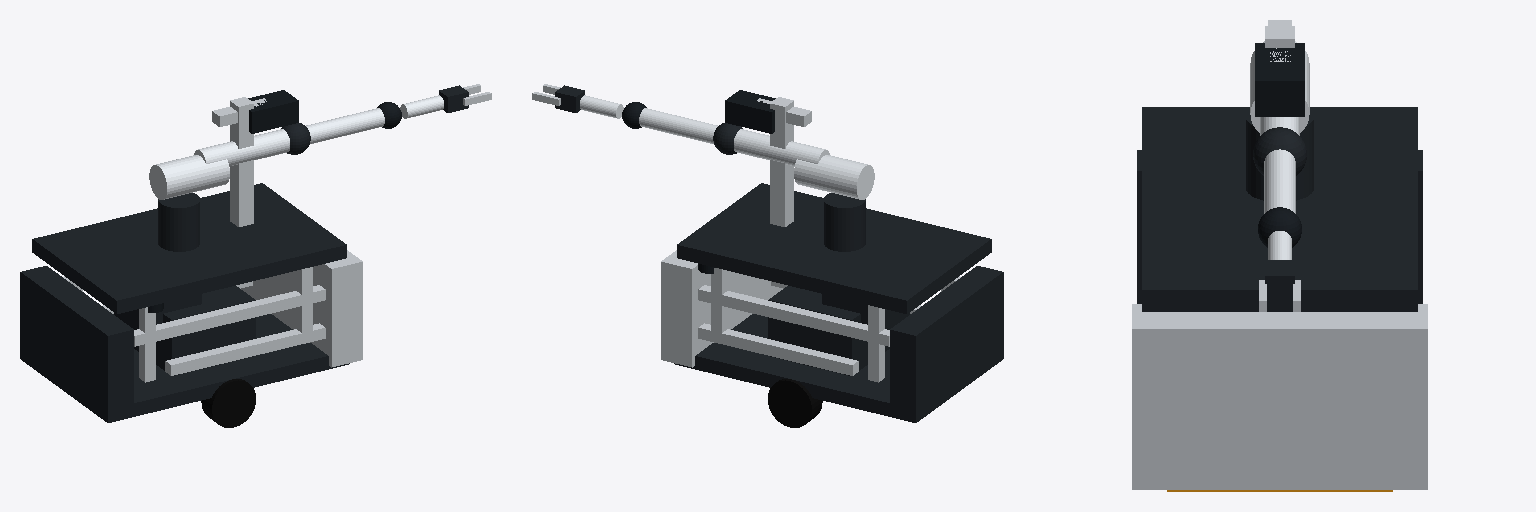
robot.urdf — mobile_manipulator_amr:
<?xml version="1.0"?>
<robot name="mobile_manipulator_amr">
  <material name="aluminum_mat">
    <color rgba="0.83 0.85 0.87 1.0"/>
  </material>
  <material name="dark_panel_mat">
    <color rgba="0.16 0.18 0.20 1.0"/>
  </material>
  <material name="sensor_dark">
    <color rgba="0.12 0.14 0.16 1.0"/>
  </material>
  <material name="wheel_dark">
    <color rgba="0.08 0.08 0.08 1.0"/>
  </material>
  <material name="arm_white">
    <color rgba="0.91 0.93 0.95 1.0"/>
  </material>
  <material name="safety_orange">
    <color rgba="0.96 0.64 0.12 1.0"/>
  </material>

  <link name="base_link">
    <visual>
      <origin xyz="0 0 0.06" rpy="0 0 0"/>
      <geometry>
        <box size="0.90 0.56 0.05"/>
      </geometry>
      <material name="dark_panel_mat"/>
    </visual>
    <visual>
      <origin xyz="0 0 0.45" rpy="0 0 0"/>
      <geometry>
        <box size="0.88 0.56 0.05"/>
      </geometry>
      <material name="dark_panel_mat"/>
    </visual>
    <visual>
      <origin xyz="0.43 0 0.23" rpy="0 0 0"/>
      <geometry>
        <box size="0.12 0.60 0.36"/>
      </geometry>
      <material name="aluminum_mat"/>
    </visual>
    <visual>
      <origin xyz="-0.43 0 0.20" rpy="0 0 0"/>
      <geometry>
        <box size="0.10 0.58 0.32"/>
      </geometry>
      <material name="dark_panel_mat"/>
    </visual>

    <visual><origin xyz="0.12 0.24 0.16" rpy="0 0 0"/><geometry><box size="0.68 0.04 0.04"/></geometry><material name="aluminum_mat"/></visual>
    <visual><origin xyz="0.12 -0.24 0.16" rpy="0 0 0"/><geometry><box size="0.68 0.04 0.04"/></geometry><material name="aluminum_mat"/></visual>
    <visual><origin xyz="0.02 0.24 0.30" rpy="0 0 0"/><geometry><box size="0.76 0.04 0.04"/></geometry><material name="aluminum_mat"/></visual>
    <visual><origin xyz="0.02 -0.24 0.30" rpy="0 0 0"/><geometry><box size="0.76 0.04 0.04"/></geometry><material name="aluminum_mat"/></visual>
    <visual><origin xyz="0.02 0.24 0.44" rpy="0 0 0"/><geometry><box size="0.76 0.04 0.04"/></geometry><material name="aluminum_mat"/></visual>
    <visual><origin xyz="0.02 -0.24 0.44" rpy="0 0 0"/><geometry><box size="0.76 0.04 0.04"/></geometry><material name="aluminum_mat"/></visual>
    <visual><origin xyz="0.26 0 0.44" rpy="0 0 0"/><geometry><box size="0.04 0.48 0.04"/></geometry><material name="aluminum_mat"/></visual>
    <visual><origin xyz="0.00 0 0.44" rpy="0 0 0"/><geometry><box size="0.04 0.48 0.04"/></geometry><material name="aluminum_mat"/></visual>
    <visual><origin xyz="-0.26 0 0.44" rpy="0 0 0"/><geometry><box size="0.04 0.48 0.04"/></geometry><material name="aluminum_mat"/></visual>

    <visual><origin xyz="0.30 0.24 0.30" rpy="0 0 0"/><geometry><box size="0.04 0.04 0.32"/></geometry><material name="aluminum_mat"/></visual>
    <visual><origin xyz="0.30 -0.24 0.30" rpy="0 0 0"/><geometry><box size="0.04 0.04 0.32"/></geometry><material name="aluminum_mat"/></visual>
    <visual><origin xyz="-0.30 0.24 0.30" rpy="0 0 0"/><geometry><box size="0.04 0.04 0.32"/></geometry><material name="aluminum_mat"/></visual>
    <visual><origin xyz="-0.30 -0.24 0.30" rpy="0 0 0"/><geometry><box size="0.04 0.04 0.32"/></geometry><material name="aluminum_mat"/></visual>

    <visual>
      <origin xyz="0 0 0.18" rpy="0 0 0"/>
      <geometry>
        <box size="0.32 0.32 0.22"/>
      </geometry>
      <material name="dark_panel_mat"/>
    </visual>
    <visual>
      <origin xyz="-0.12 0 0.28" rpy="0 0 0"/>
      <geometry>
        <box size="0.22 0.20 0.16"/>
      </geometry>
      <material name="dark_panel_mat"/>
    </visual>
    <visual>
      <origin xyz="0.20 0 0.72" rpy="0 0 0"/>
      <geometry>
        <box size="0.06 0.06 0.44"/>
      </geometry>
      <material name="aluminum_mat"/>
    </visual>
    <visual>
      <origin xyz="0.20 0 0.90" rpy="0 0 0"/>
      <geometry>
        <box size="0.20 0.05 0.04"/>
      </geometry>
      <material name="aluminum_mat"/>
    </visual>
    <visual>
      <origin xyz="0.30 0 0.88" rpy="0 0 0"/>
      <geometry>
        <box size="0.18 0.10 0.08"/>
      </geometry>
      <material name="sensor_dark"/>
    </visual>
    <visual>
      <origin xyz="0.45 0 0.10" rpy="0 0 0"/>
      <geometry>
        <box size="0.05 0.46 0.12"/>
      </geometry>
      <material name="safety_orange"/>
    </visual>
  </link>

  <link name="left_wheel_link">
    <visual>
      <origin xyz="0 0 0" rpy="1.57079632679 0 0"/>
      <geometry>
        <cylinder radius="0.085" length="0.07"/>
      </geometry>
      <material name="wheel_dark"/>
    </visual>
  </link>

  <link name="right_wheel_link">
    <visual>
      <origin xyz="0 0 0" rpy="1.57079632679 0 0"/>
      <geometry>
        <cylinder radius="0.085" length="0.07"/>
      </geometry>
      <material name="wheel_dark"/>
    </visual>
  </link>

  <joint name="left_wheel_joint" type="continuous">
    <parent link="base_link"/>
    <child link="left_wheel_link"/>
    <origin xyz="0 0.26 0" rpy="0 0 0"/>
    <axis xyz="0 1 0"/>
  </joint>

  <joint name="right_wheel_joint" type="continuous">
    <parent link="base_link"/>
    <child link="right_wheel_link"/>
    <origin xyz="0 -0.26 0" rpy="0 0 0"/>
    <axis xyz="0 1 0"/>
  </joint>

  <link name="laser_frame"/>
  <joint name="laser_frame_joint" type="fixed">
    <parent link="base_link"/>
    <child link="laser_frame"/>
    <origin xyz="0 0 0.42" rpy="0 0 0"/>
  </joint>

  <link name="front_left_lidar_frame">
    <visual>
      <origin xyz="0 0 0" rpy="0 0 0"/>
      <geometry>
        <cylinder radius="0.036" length="0.056"/>
      </geometry>
      <material name="sensor_dark"/>
    </visual>
  </link>

  <joint name="front_left_lidar_joint" type="fixed">
    <parent link="base_link"/>
    <child link="front_left_lidar_frame"/>
    <origin xyz="0.34 0.24 0.42" rpy="0 0 0.78539816339"/>
  </joint>

  <link name="rear_right_lidar_frame">
    <visual>
      <origin xyz="0 0 0" rpy="0 0 0"/>
      <geometry>
        <cylinder radius="0.036" length="0.056"/>
      </geometry>
      <material name="sensor_dark"/>
    </visual>
  </link>

  <joint name="rear_right_lidar_joint" type="fixed">
    <parent link="base_link"/>
    <child link="rear_right_lidar_frame"/>
    <origin xyz="-0.28 -0.24 0.42" rpy="0 0 3.92699081699"/>
  </joint>

  <link name="imu_link"/>
  <joint name="imu_joint" type="fixed">
    <parent link="base_link"/>
    <child link="imu_link"/>
    <origin xyz="0 0 0.30" rpy="0 0 0"/>
  </joint>

  <link name="camera_link">
    <visual>
      <origin xyz="0 0 0" rpy="0 0 0"/>
      <geometry>
        <box size="0.18 0.10 0.08"/>
      </geometry>
      <material name="sensor_dark"/>
    </visual>
  </link>

  <joint name="camera_joint" type="fixed">
    <parent link="base_link"/>
    <child link="camera_link"/>
    <origin xyz="0.30 0 0.88" rpy="0 0 0"/>
  </joint>

  <link name="camera_rgb_optical_frame"/>
  <joint name="camera_rgb_optical_joint" type="fixed">
    <parent link="camera_link"/>
    <child link="camera_rgb_optical_frame"/>
    <origin xyz="0 0 0" rpy="-1.57079632679 0 -1.57079632679"/>
  </joint>

  <link name="camera_depth_optical_frame"/>
  <joint name="camera_depth_optical_joint" type="fixed">
    <parent link="camera_link"/>
    <child link="camera_depth_optical_frame"/>
    <origin xyz="0 0 0" rpy="-1.57079632679 0 -1.57079632679"/>
  </joint>

  <link name="arm_base_link">
    <visual>
      <origin xyz="0 0 0.08" rpy="0 0 0"/>
      <geometry><cylinder radius="0.07" length="0.16"/></geometry>
      <material name="dark_panel_mat"/>
    </visual>
  </link>
  <joint name="arm_base_mount_joint" type="fixed">
    <parent link="base_link"/>
    <child link="arm_base_link"/>
    <origin xyz="-0.04 0 0.48" rpy="0 0 0"/>
  </joint>

  <link name="shoulder_link">
    <visual>
      <origin xyz="0.04 0 0.08" rpy="0 1.57079632679 0"/>
      <geometry><cylinder radius="0.06" length="0.24"/></geometry>
      <material name="arm_white"/>
    </visual>
  </link>
  <joint name="arm_base_joint" type="revolute">
    <parent link="arm_base_link"/>
    <child link="shoulder_link"/>
    <origin xyz="0 0 0.16" rpy="0 0 0"/>
    <axis xyz="0 0 1"/>
    <limit lower="-3.14" upper="3.14" effort="20" velocity="1.5"/>
  </joint>

  <link name="upper_arm_link">
    <visual>
      <origin xyz="0.18 0 0" rpy="0 1.57079632679 0"/>
      <geometry><cylinder radius="0.04" length="0.36"/></geometry>
      <material name="arm_white"/>
    </visual>
  </link>
  <joint name="shoulder_lift_joint" type="revolute">
    <parent link="shoulder_link"/>
    <child link="upper_arm_link"/>
    <origin xyz="0.08 0 0.12" rpy="0 0 0"/>
    <axis xyz="0 1 0"/>
    <limit lower="-2.0" upper="1.4" effort="20" velocity="1.5"/>
  </joint>

  <link name="elbow_link">
    <visual>
      <origin xyz="0 0 0" rpy="0 0 0"/>
      <geometry><sphere radius="0.055"/></geometry>
      <material name="dark_panel_mat"/>
    </visual>
  </link>
  <joint name="elbow_joint" type="revolute">
    <parent link="upper_arm_link"/>
    <child link="elbow_link"/>
    <origin xyz="0.36 0 0" rpy="0 0 0"/>
    <axis xyz="0 1 0"/>
    <limit lower="-2.2" upper="2.2" effort="20" velocity="1.6"/>
  </joint>

  <link name="forearm_link">
    <visual>
      <origin xyz="0.16 0 0" rpy="0 1.57079632679 0"/>
      <geometry><cylinder radius="0.032" length="0.32"/></geometry>
      <material name="arm_white"/>
    </visual>
  </link>
  <joint name="forearm_mount_joint" type="fixed">
    <parent link="elbow_link"/>
    <child link="forearm_link"/>
    <origin xyz="0.04 0 0" rpy="0 0 0"/>
  </joint>

  <link name="wrist_pitch_link">
    <visual>
      <origin xyz="0 0 0" rpy="0 0 0"/>
      <geometry><sphere radius="0.045"/></geometry>
      <material name="sensor_dark"/>
    </visual>
  </link>
  <joint name="wrist_pitch_joint" type="revolute">
    <parent link="forearm_link"/>
    <child link="wrist_pitch_link"/>
    <origin xyz="0.32 0 0" rpy="0 0 0"/>
    <axis xyz="0 1 0"/>
    <limit lower="-2.0" upper="2.0" effort="12" velocity="1.8"/>
  </joint>

  <link name="wrist_roll_link">
    <visual>
      <origin xyz="0.07 0 0" rpy="0 1.57079632679 0"/>
      <geometry><cylinder radius="0.025" length="0.14"/></geometry>
      <material name="arm_white"/>
    </visual>
  </link>
  <joint name="wrist_roll_joint" type="revolute">
    <parent link="wrist_pitch_link"/>
    <child link="wrist_roll_link"/>
    <origin xyz="0.06 0 0" rpy="0 0 0"/>
    <axis xyz="1 0 0"/>
    <limit lower="-3.14" upper="3.14" effort="10" velocity="2.0"/>
  </joint>

  <link name="gripper_link">
    <visual>
      <origin xyz="0.05 0 0" rpy="0 0 0"/>
      <geometry><box size="0.08 0.06 0.06"/></geometry>
      <material name="dark_panel_mat"/>
    </visual>
    <visual>
      <origin xyz="0.12 0.035 0" rpy="0 0 0"/>
      <geometry><box size="0.10 0.016 0.024"/></geometry>
      <material name="aluminum_mat"/>
    </visual>
    <visual>
      <origin xyz="0.12 -0.035 0" rpy="0 0 0"/>
      <geometry><box size="0.10 0.016 0.024"/></geometry>
      <material name="aluminum_mat"/>
    </visual>
  </link>
  <joint name="gripper_joint" type="fixed">
    <parent link="wrist_roll_link"/>
    <child link="gripper_link"/>
    <origin xyz="0.14 0 0" rpy="0 0 0"/>
  </joint>

  <link name="tool0"/>
  <joint name="tool0_joint" type="fixed">
    <parent link="gripper_link"/>
    <child link="tool0"/>
    <origin xyz="0.16 0 0" rpy="0 0 0"/>
  </joint>
</robot>

--- Render facts (derived) ---
3 views of the same robot in one strip: view 1: azimuth 30°, elevation 25°; view 2: azimuth 150°, elevation 25°; view 3: azimuth 270°, elevation 25° (orthographic).
Model mobile_manipulator_amr with 19 links and 18 joints (5 revolute, 2 continuous, 11 fixed), rooted at base_link, posed every joint at zero.
Visible links, largest first — view 1: base_link, shoulder_link, arm_base_link, right_wheel_link, upper_arm_link, forearm_link, gripper_link, wrist_roll_link, elbow_link; view 2: base_link, shoulder_link, arm_base_link, left_wheel_link, upper_arm_link, forearm_link, gripper_link, wrist_roll_link, elbow_link; view 3: base_link, arm_base_link, forearm_link, gripper_link, elbow_link, wrist_pitch_link, shoulder_link, wrist_roll_link.
Boxes of the visible links, x1,y1,x2,y2 form: base_link: (20,90,362,422); shoulder_link: (149,155,229,199); arm_base_link: (158,193,199,251); right_wheel_link: (201,379,255,427); upper_arm_link: (194,129,289,166); forearm_link: (306,108,384,143); gripper_link: (439,84,491,112); wrist_roll_link: (400,95,443,118); elbow_link: (281,123,310,154); base_link: (661,90,1003,422); shoulder_link: (794,155,874,199); arm_base_link: (824,193,865,251); left_wheel_link: (768,379,822,427); upper_arm_link: (734,129,829,166); forearm_link: (639,108,717,143); gripper_link: (532,84,584,112); wrist_roll_link: (580,95,623,118); elbow_link: (713,123,742,154); base_link: (1132,20,1427,491); arm_base_link: (1246,110,1313,200); forearm_link: (1264,149,1295,213); gripper_link: (1259,260,1300,311); elbow_link: (1253,127,1306,175); wrist_pitch_link: (1258,207,1301,247); shoulder_link: (1250,41,1309,132); wrist_roll_link: (1268,231,1291,259).
Bounding box of the posed robot: 1.61 × 0.6 × 1.02 m (x, y, z).
Geometry: primitives only (box / cylinder / sphere), no mesh files.
